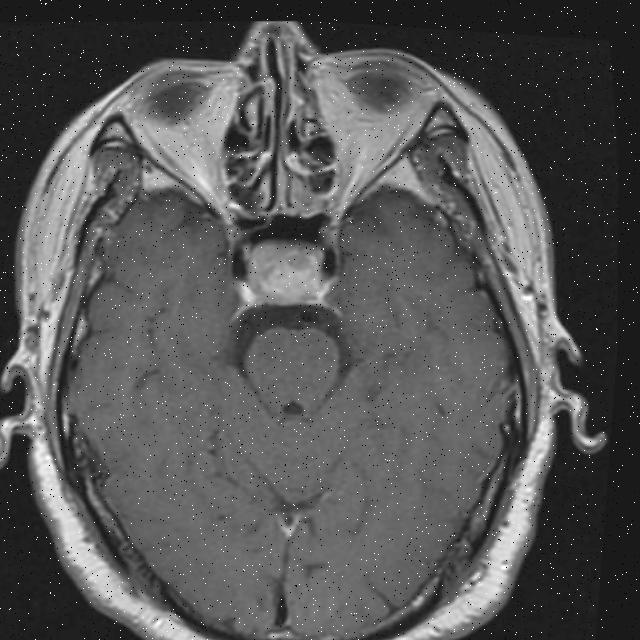Pituitary: (243, 233, 329, 309)
